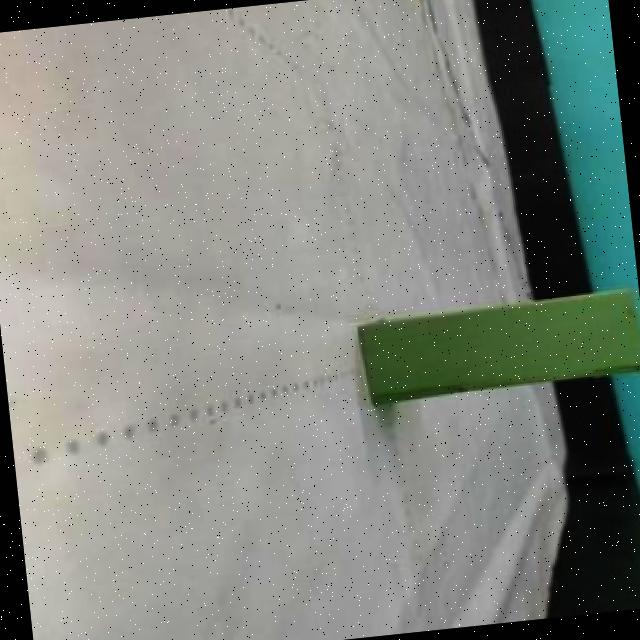greenbox: (355, 288, 640, 401)
